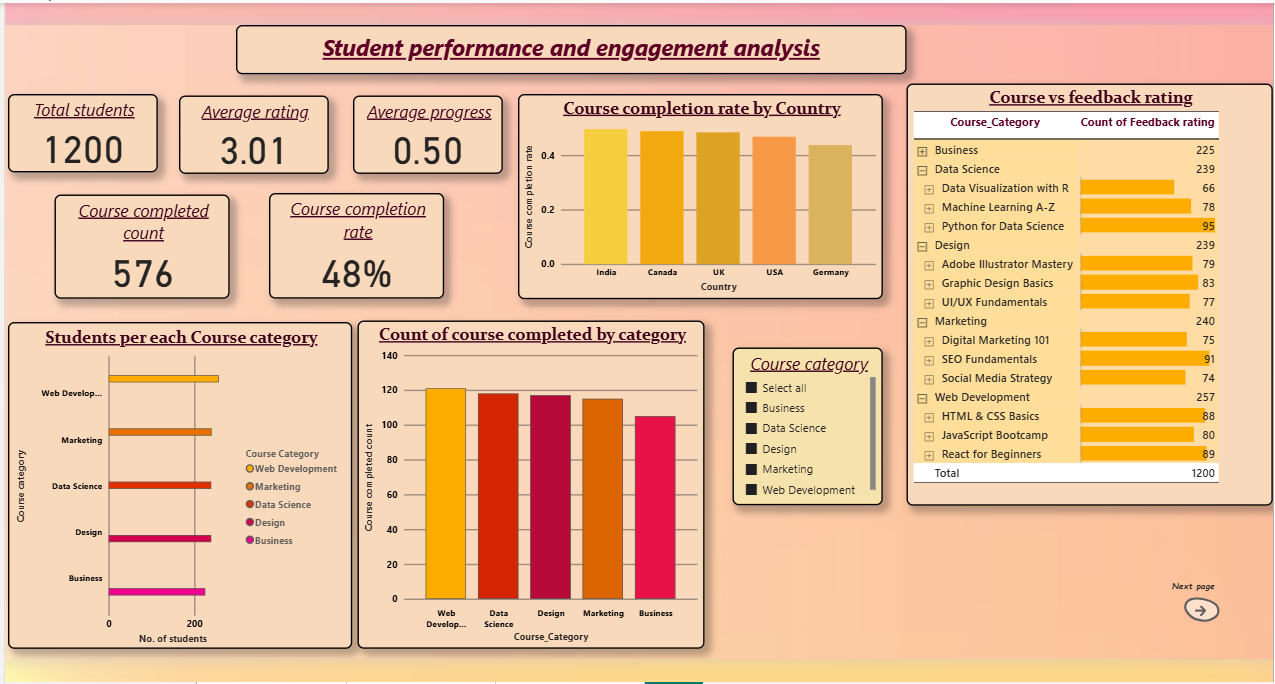

Layout of this report page (visuals, bound fields, positions):
{"tool":"powerbi","page":{"name":"Overview 1","canvas":[1800,900],"ordinal":0},"visuals":[{"type":"card","title":"Total students","fields":{"Values":["Cleaned Data.Total students"]},"box":[4,97.2,212.5,111.3],"z":0},{"type":"card","title":"Average progress","fields":{"Values":["Cleaned Data.Average progress"]},"box":[493.9,99.2,212.5,111.3],"z":1000},{"type":"card","title":"Average rating","fields":{"Values":["Cleaned Data.Average rating"]},"box":[246.9,99.2,212.5,111.3],"z":2000},{"type":"card","title":"Course completed count","fields":{"Values":["Cleaned Data.Course ompletion rate"]},"box":[70.8,240.9,249,147.8],"z":3000},{"type":"card","title":"Course completion rate","fields":{"Values":["Cleaned Data.Course completion rate"]},"box":[374.4,238.8,249,149.8],"z":4000},{"type":"clusteredBarChart","title":"Students per each Course category ","fields":{"Category":["Cleaned Data.Course_Category"],"Y":["CountNonNull(Cleaned Data.Student_ID)"],"Series":["Cleaned Data.Course_Category"]},"box":[4.4,421.9,488.5,464.1],"z":5000},{"type":"slicer","title":"Course category","fields":{"Values":["Cleaned Data.Course_Category"]},"box":[1032.5,457.4,213.2,224.3],"z":6000},{"type":"actionButton","title":"Next page","box":[1656.2,787.4,87.5,61.6],"z":7000},{"type":"textbox","box":[327.9,0,951.8,70.3],"z":8000},{"type":"clusteredColumnChart","title":"Count of course completed by category","fields":{"Category":["Cleaned Data.Course_Category"],"Y":["Cleaned Data.Course completed count"]},"box":[499.6,419.7,492.9,466.3],"z":9000},{"type":"clusteredColumnChart","fields":{"Category":["Cleaned Data.Country"],"Y":["Cleaned Data.Course completion rate"]},"box":[728.7,97.2,518.2,291.5],"z":11000},{"type":"pivotTable","title":"Course vs feedback rating","fields":{"Values":["CountNonNull(Cleaned Data.Feedback rating)"],"Rows":["Cleaned Data.Course_Category Hierarchy.Course_Category","Cleaned Data.Course_Category Hierarchy.Course_Name","Cleaned Data.Course_Category Hierarchy.Country","Cleaned Data.Course_Category Hierarchy.Gender"]},"box":[1279.2,83,520.2,599.1],"z":11001}]}

Visuals, with their boxes in screenshot pixels (x1, y1, x2, y2):
"Total students" card: 9,91,158,169
"Average progress" card: 352,93,500,170
"Average rating" card: 179,93,328,170
"Course completed count" card: 56,192,230,295
"Course completion rate" card: 268,190,442,295
"Students per each Course category " clusteredBarChart: 10,318,351,642
"Course category" slicer: 728,343,877,499
"Next page" actionButton: 1164,573,1225,616
textbox: 236,23,901,72
"Count of course completed by category" clusteredColumnChart: 356,316,700,642
clusteredColumnChart - Cleaned Data.Country x Cleaned Data.Course completion rate: 516,91,878,295
"Course vs feedback rating" pivotTable: 900,81,1264,500
